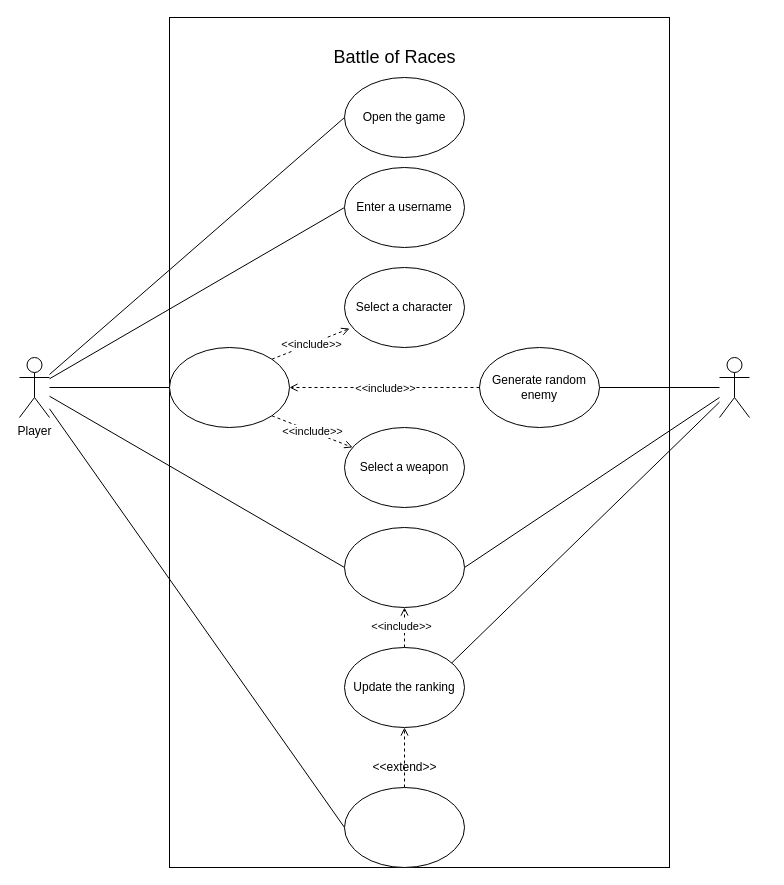
The diagram is 784 pixels wide and 885 high, and some of its shapes have lost their labels. The centre of each missing label's shape, as x and y in pixels:
<<system>>: pixel 734 387
Check the Ranking: pixel 404 827
Create a character: pixel 229 387
Fight: pixel 404 567
